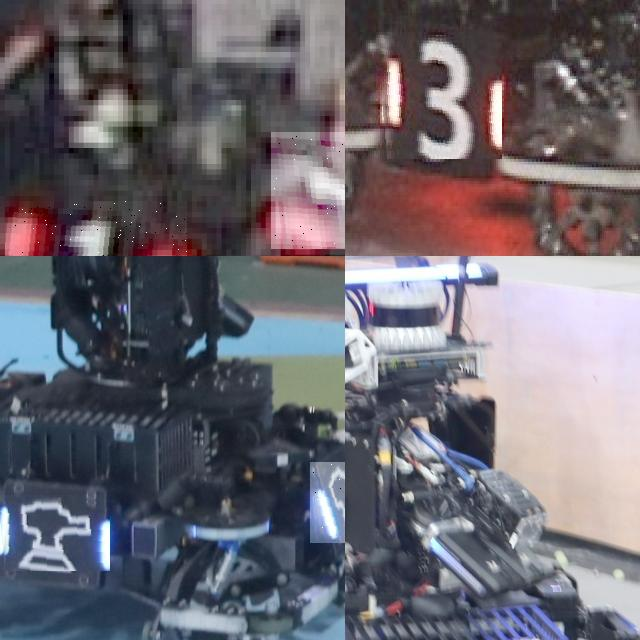Bs: (0, 494, 110, 571), (310, 462, 345, 542)
R1: (5, 201, 187, 256), (270, 131, 345, 249)
R3: (376, 32, 502, 159)
